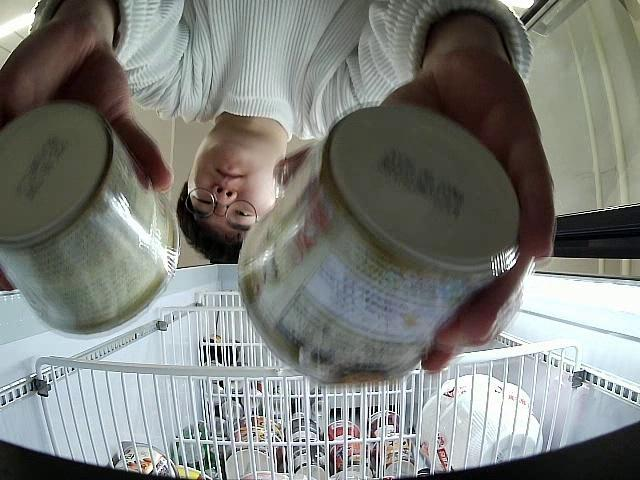04_chapagetti_S: (236, 107, 522, 386), (0, 105, 181, 336)
